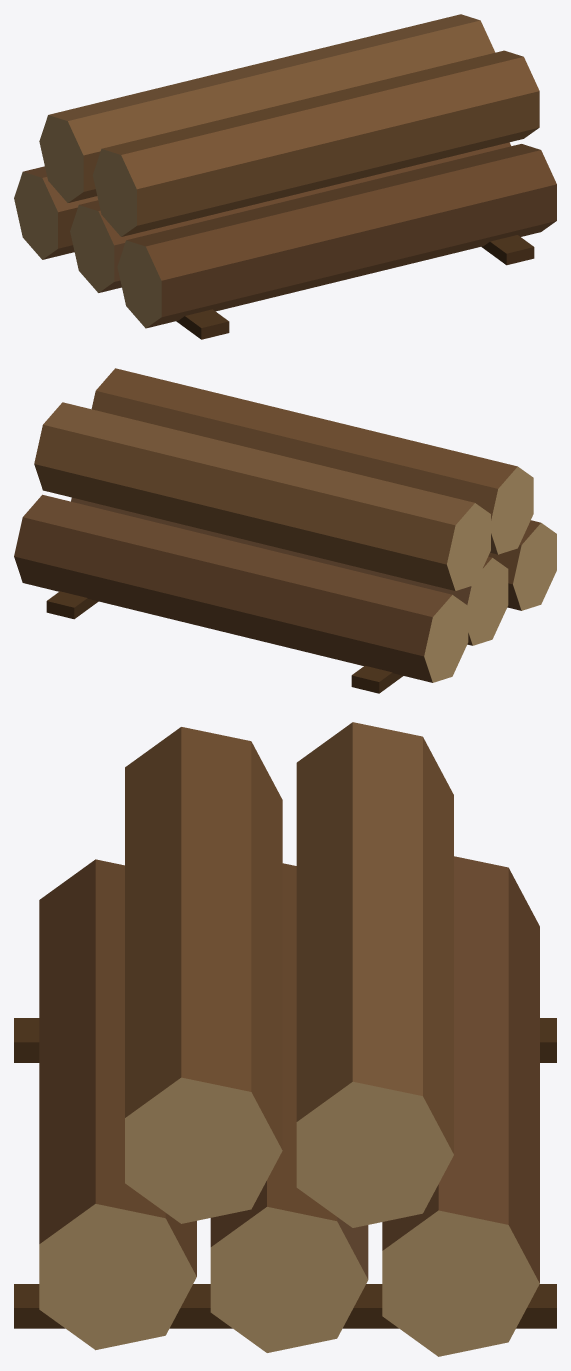
The model's file is LogPile.glb.
3 views of the same model, one above another, from view 1: azimuth 30°, elevation 25°; view 2: azimuth 150°, elevation 25°; view 3: azimuth 270°, elevation 25° (orthographic). The views are drawn at different scales.
Visible parts, largest first — view 1: Body; view 2: Body; view 3: Body.
Part boxes in pixels (left/top/right/bottom): Body: left=14, top=14, right=556, bottom=339; Body: left=14, top=368, right=556, bottom=693; Body: left=14, top=722, right=556, bottom=1356.
Size of what is drawn, in the model's own units: 5.97 by 2.19 by 3.8.
